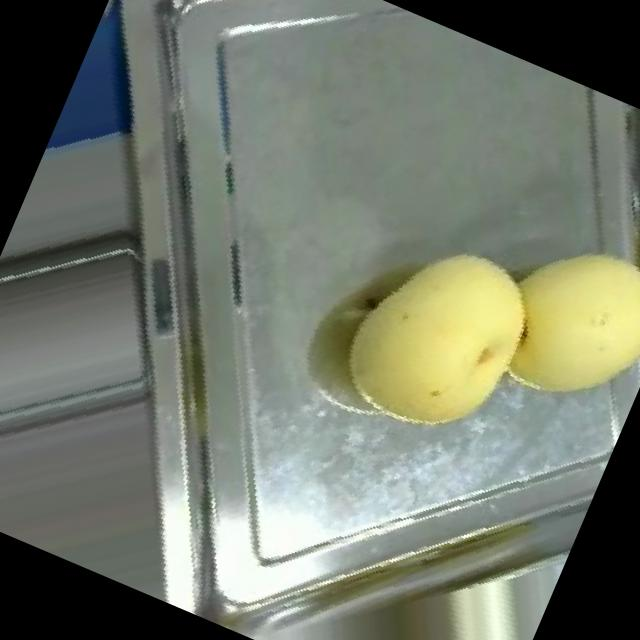Fruit: (294, 190, 578, 490), (460, 190, 640, 448), (289, 490, 559, 640)
